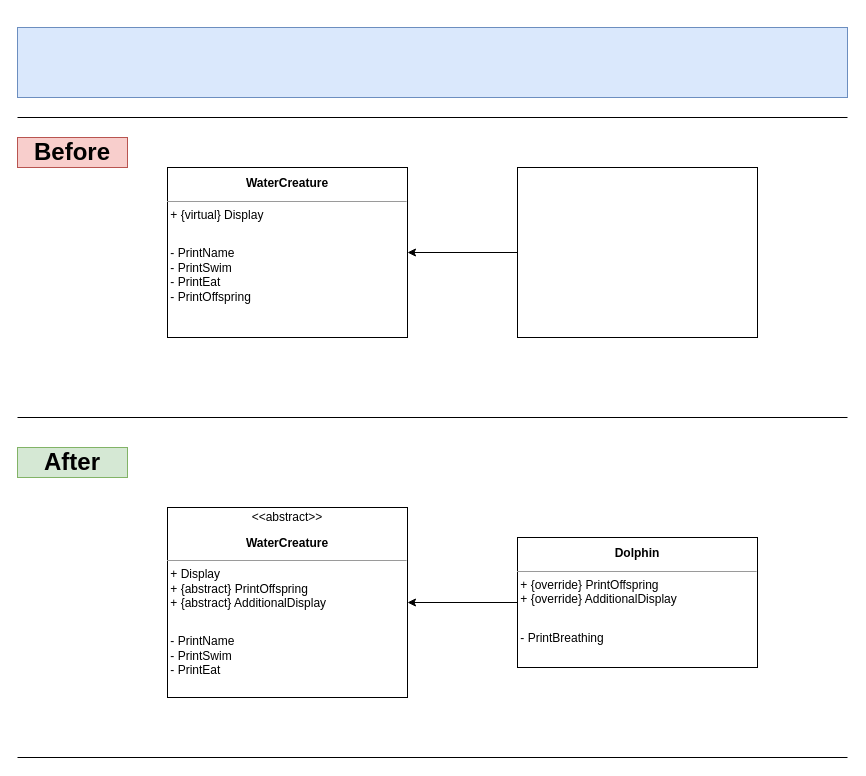
Image size: 866x776. Some labels were removed from this diagram. The shapes that lost their labels are listed below. From the top down, each one's box as (x1, y1, x2, y2) in pixels, then its label:
(16, 26, 848, 98): LSP Liskov Substitution Principle
(516, 166, 758, 338): Dolphin + {override} Display - PrintBreathing
